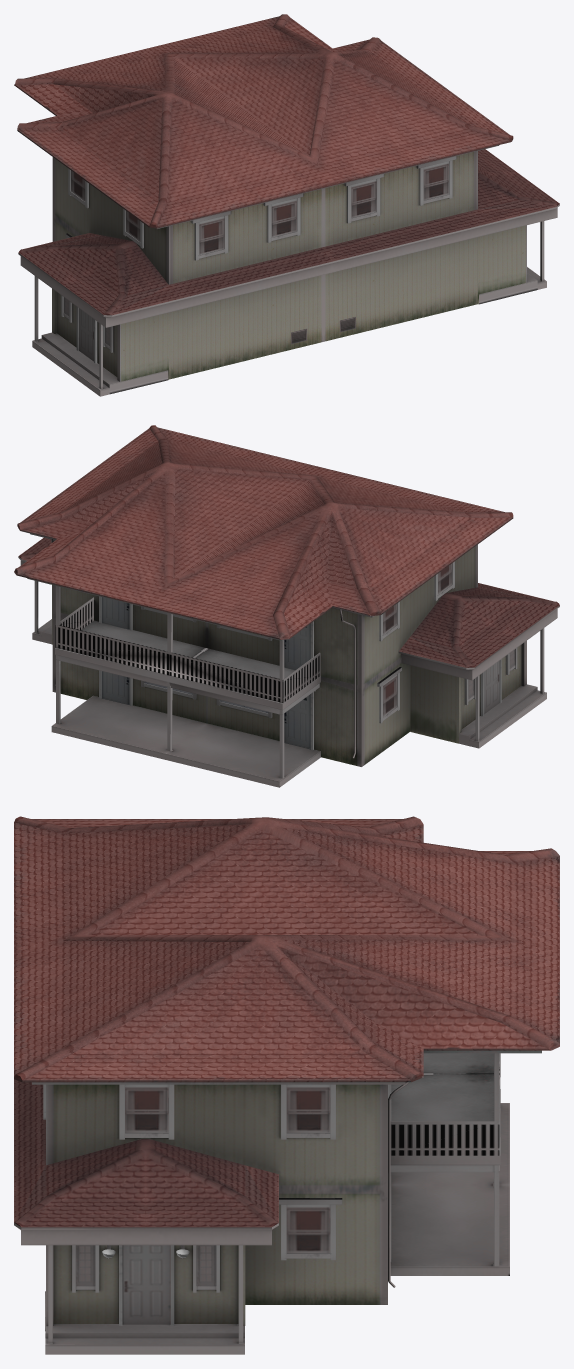
Rendered from house14.obj.
The picture shows the model from 3 angles, top to bottom: view 1: azimuth 30°, elevation 25°; view 2: azimuth 150°, elevation 25°; view 3: azimuth 270°, elevation 25°; orthographic projection. The views are drawn at different scales.
Parts seen in each view (by area): view 1: City_building_038.001; view 2: City_building_038.001; view 3: City_building_038.001.
Part boxes in pixels (x1,y1,x2,y2): City_building_038.001: [14, 14, 559, 396]; City_building_038.001: [14, 425, 559, 787]; City_building_038.001: [14, 816, 559, 1354].
Size of the model in its own units: 3.7 by 1.66 by 2.61.
1 material, 1 textured.
